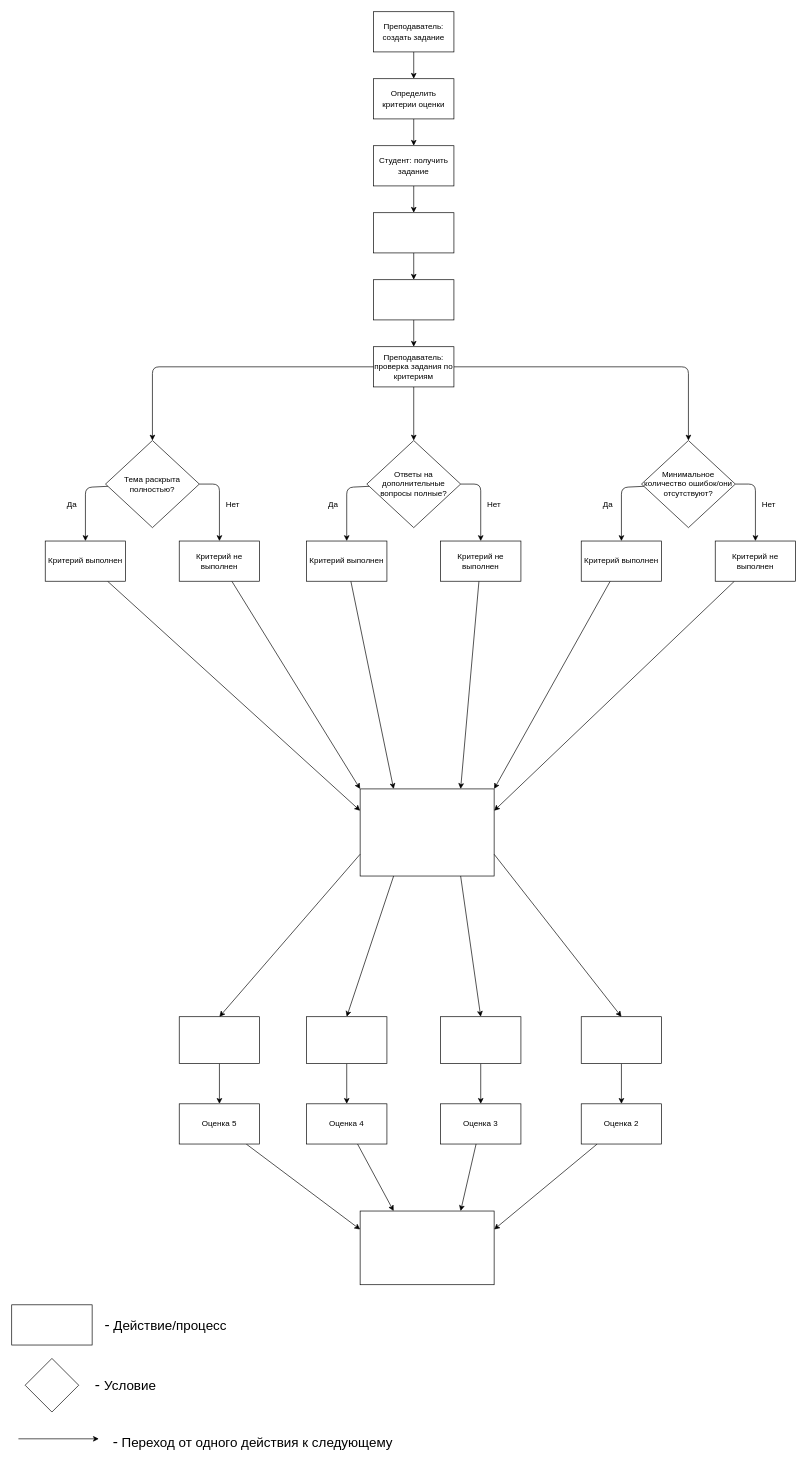
Some shapes in this 807 by 1464 pixel diagram are drawn without their labels. The centre of each missing label's shape, as x and y in pixels:
Вернуть работу студенту: pixel 426 1247
Все критерии выполнены: pixel 219 1040
Все критерии выполнены. Есть небольшие ошибки: pixel 346 1040
Выполнить работу: pixel 413 232
Не выполнен 1-2 критерия. Есть значительные ошибки: pixel 480 1040
Не выполнены все критерии. Допущены ошибки, не соответствующие теме: pixel 621 1040
Подсчет выполненных критериев: pixel 426 832
Сдать работу преподавателю: pixel 413 299
